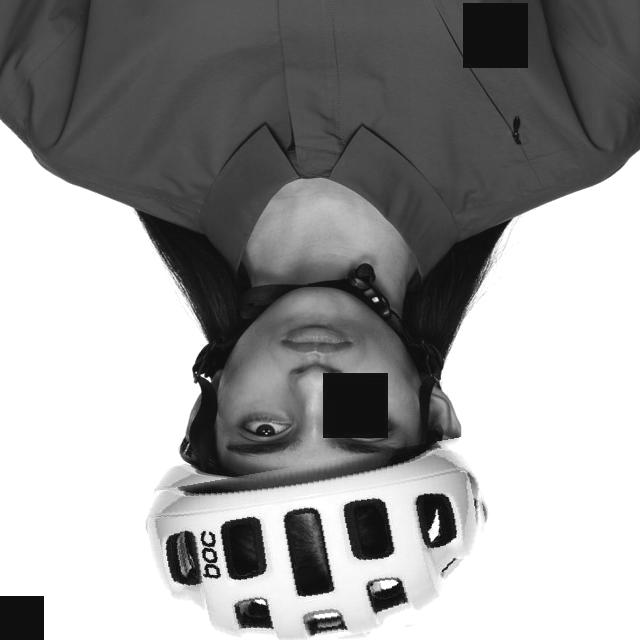helmet: (144, 451, 494, 640)
